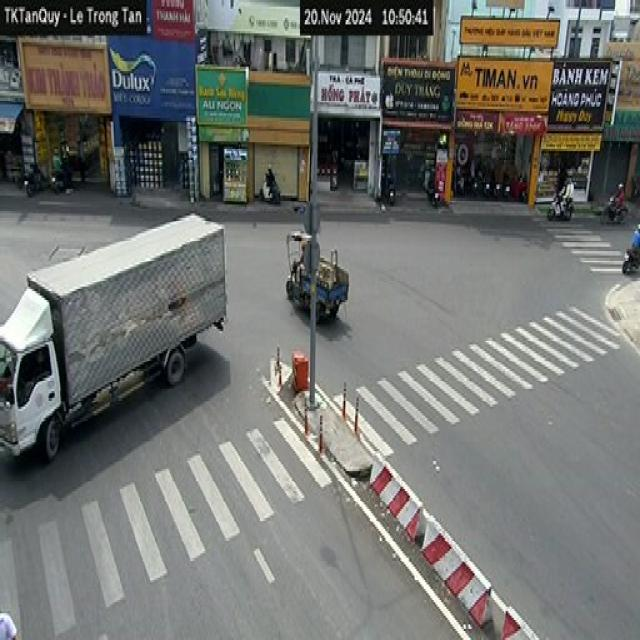truck: (0, 204, 234, 473)
